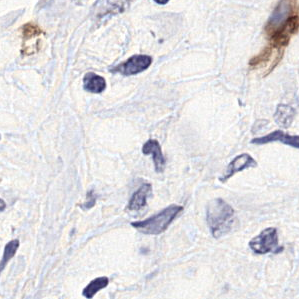Lymphocyte: (17, 18, 46, 59)
